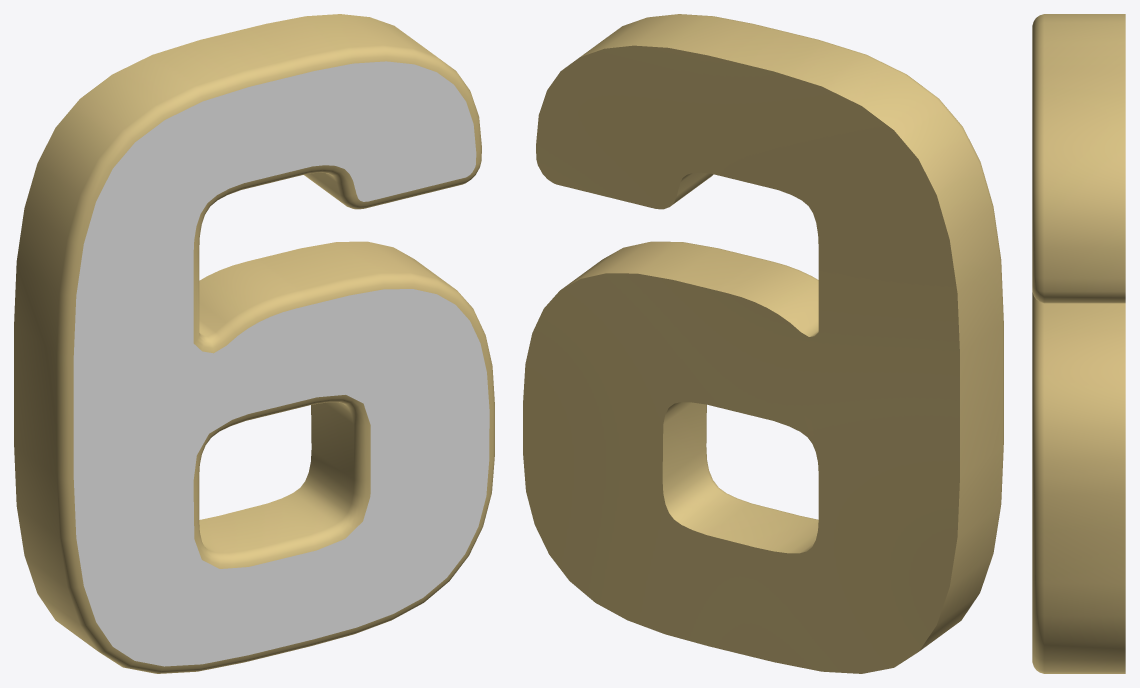
Rendered from LettersLightUp02_6.FBX.
The picture shows the model from 3 angles, left to right: view 1: azimuth 30°, elevation 25°; view 2: azimuth 150°, elevation 25°; view 3: azimuth 270°, elevation 25°; orthographic projection. The views are drawn at different scales.
Visible parts, largest first — view 1: LettersLightUp02_6; view 2: LettersLightUp02_6; view 3: LettersLightUp02_6.
Part boxes in pixels (x1=…): LettersLightUp02_6: x1=14, y1=14, x2=494, y2=673; LettersLightUp02_6: x1=523, y1=14, x2=1003, y2=673; LettersLightUp02_6: x1=1032, y1=14, x2=1125, y2=673.
Size of what is drawn, in the model's own units: 0.4707 by 0.608 by 0.0912.
